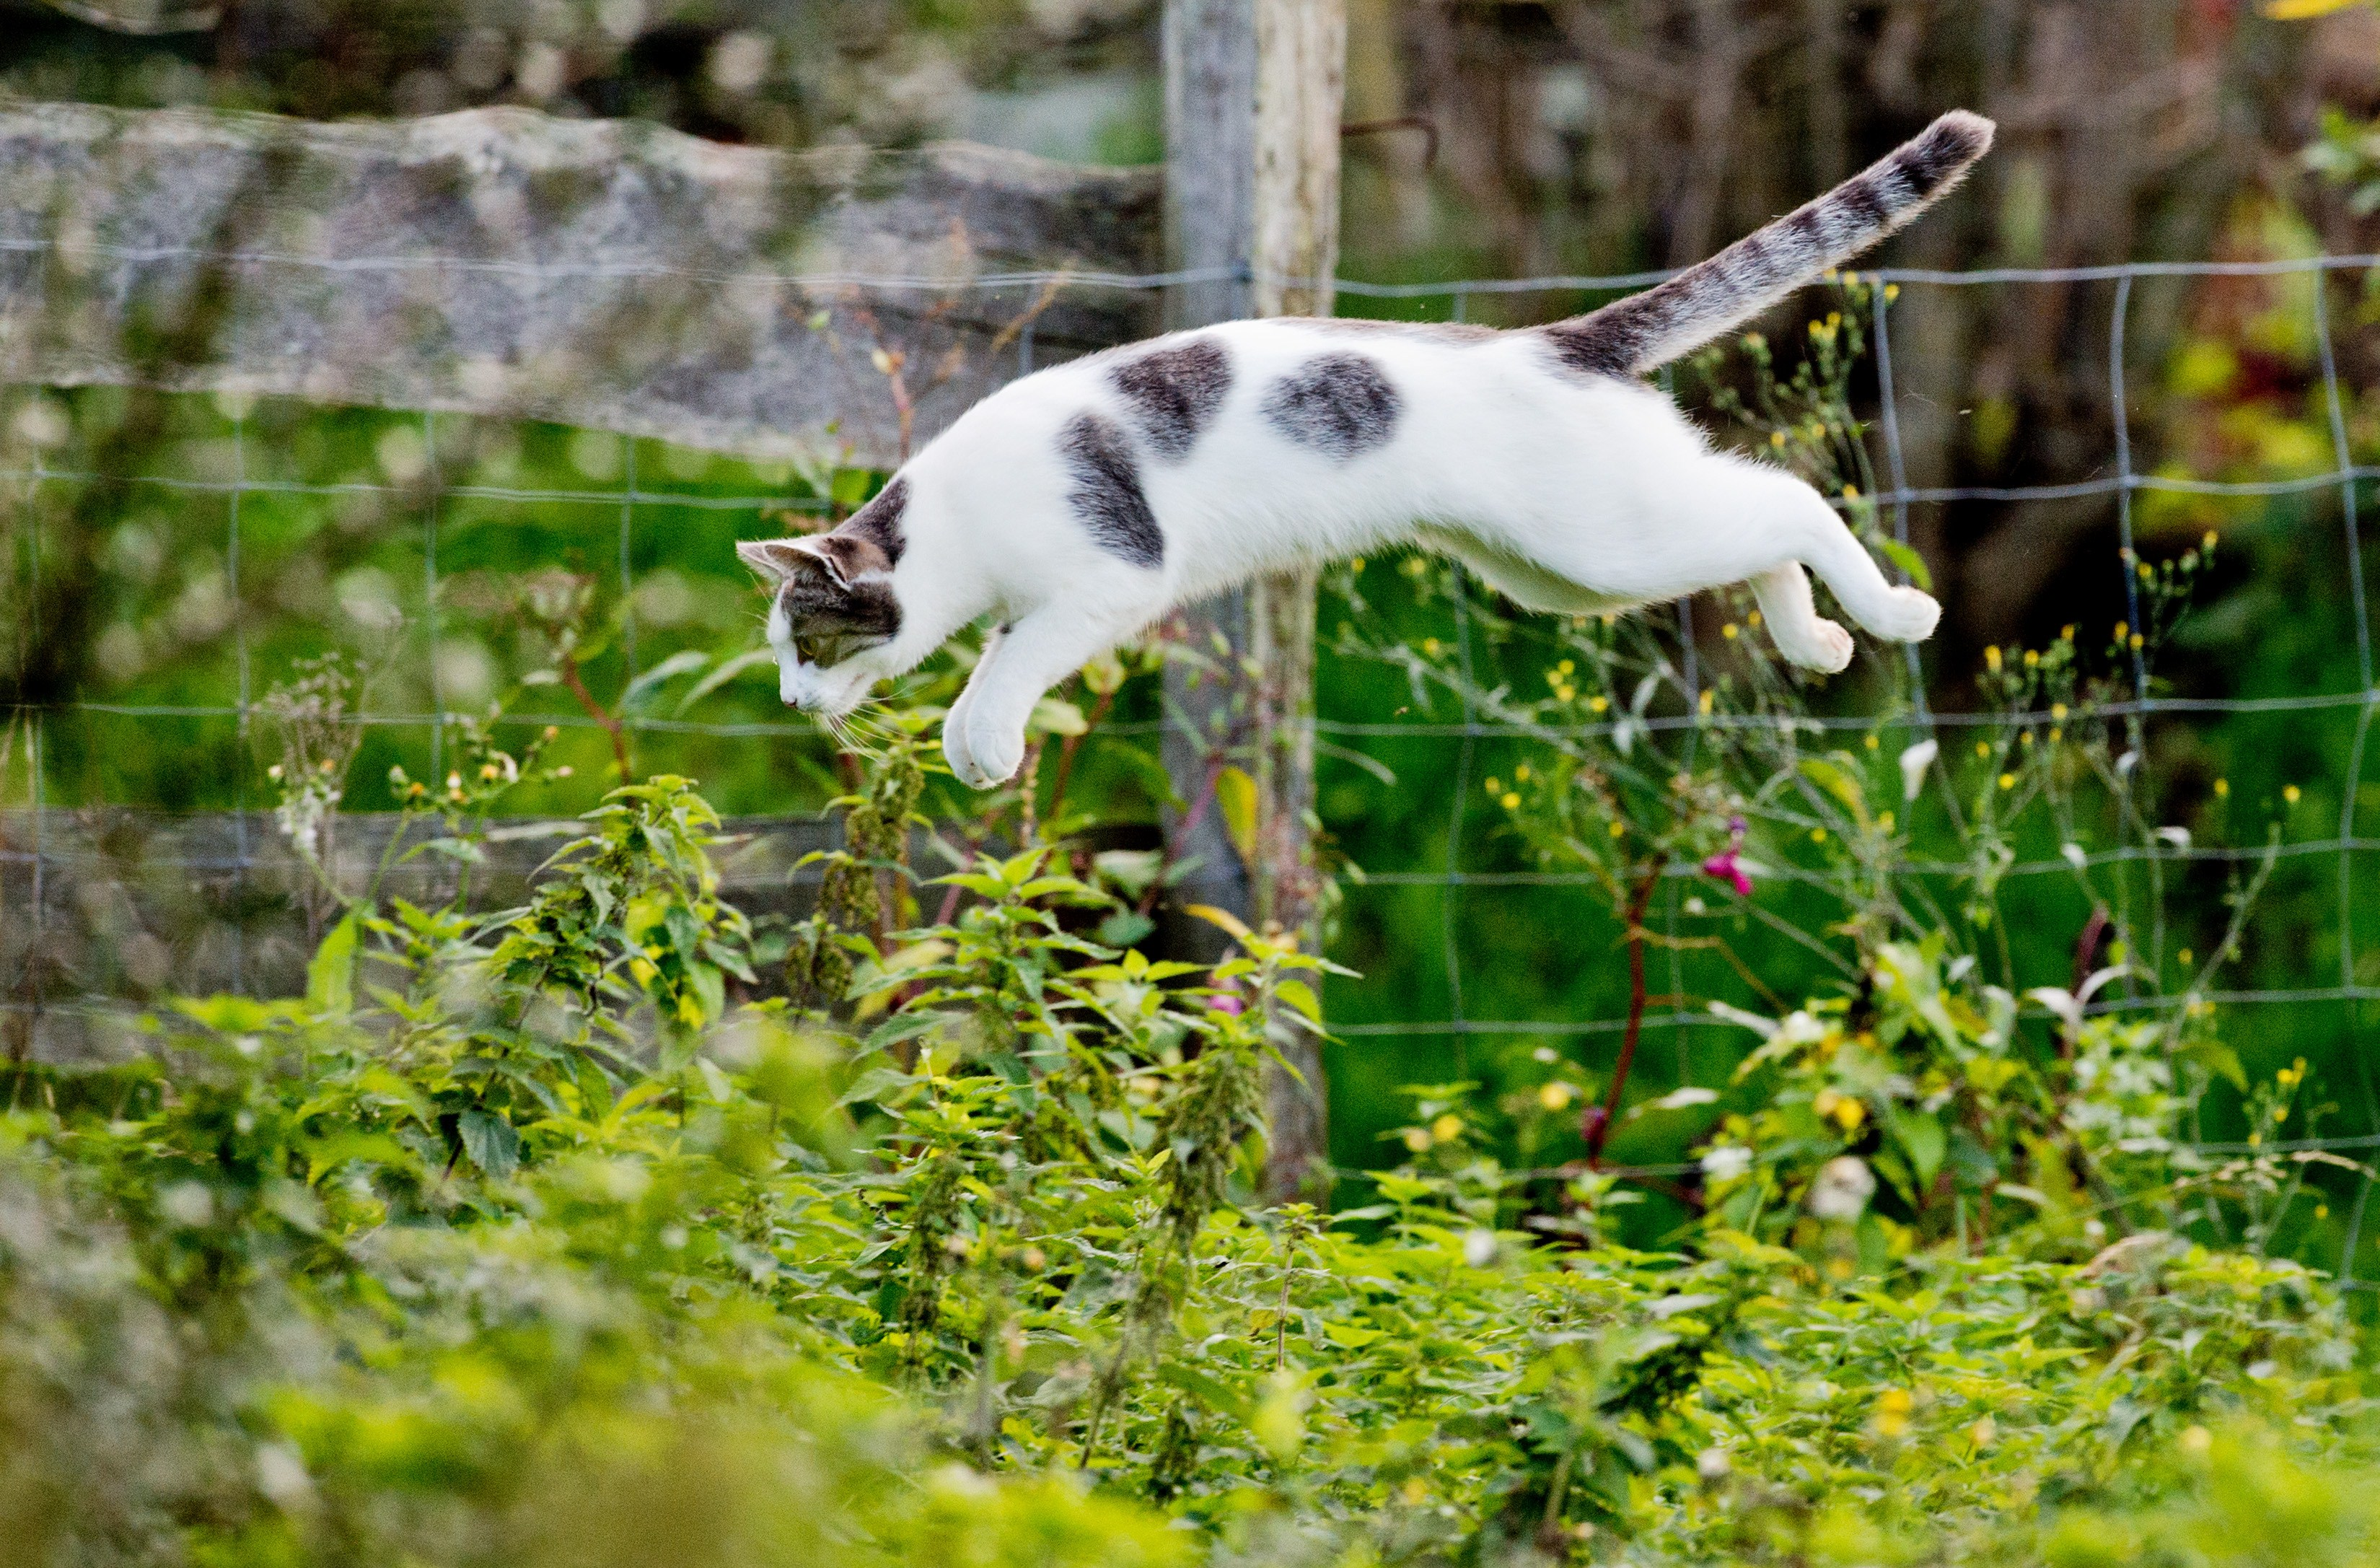cat: (736, 115, 2001, 772)
